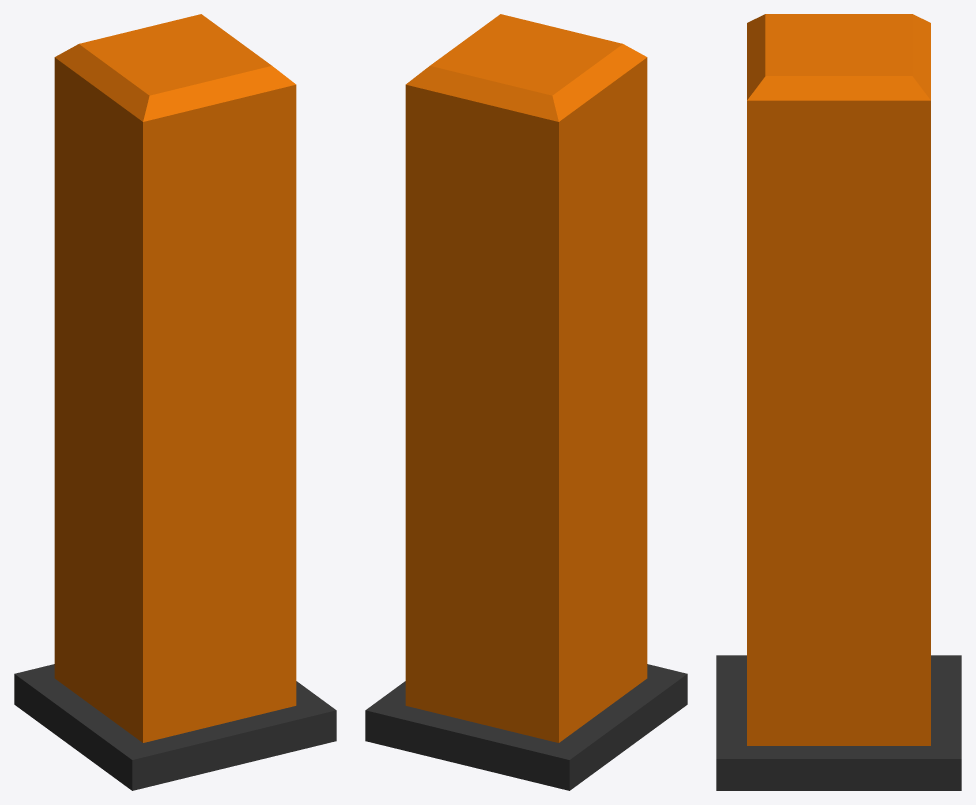
File: Parking_03.fbx
3 views of the same model, side by side, from view 1: azimuth 30°, elevation 25°; view 2: azimuth 150°, elevation 25°; view 3: azimuth 270°, elevation 25° (orthographic). The views are drawn at different scales.
Visible parts, largest first — view 1: Parking_03; view 2: Parking_03; view 3: Parking_03.
Part boxes in pixels (<box>): Parking_03: <box>14,14,336,790</box>; Parking_03: <box>365,14,687,790</box>; Parking_03: <box>716,14,961,790</box>.
Bounding box in the file's own units: 38.8 × 121 × 38.8.
